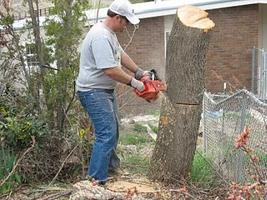person: (75, 2, 153, 189)
